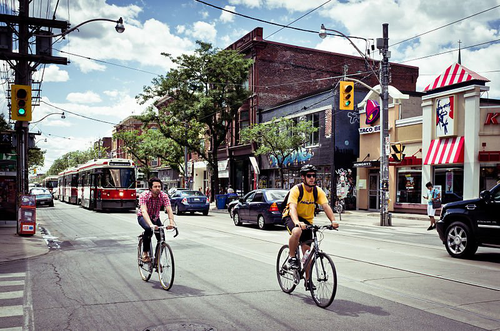bikerider: (267, 163, 345, 313), (131, 177, 188, 294)
